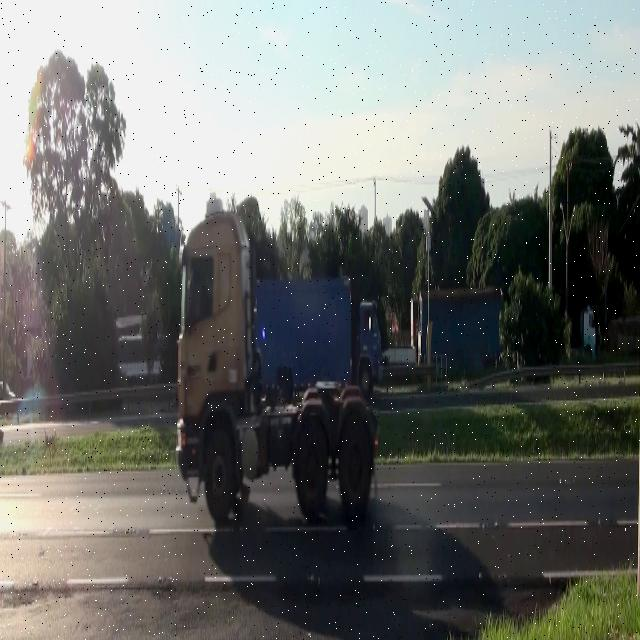-axle: (336, 412, 369, 522), (200, 420, 234, 524), (292, 422, 328, 520)
